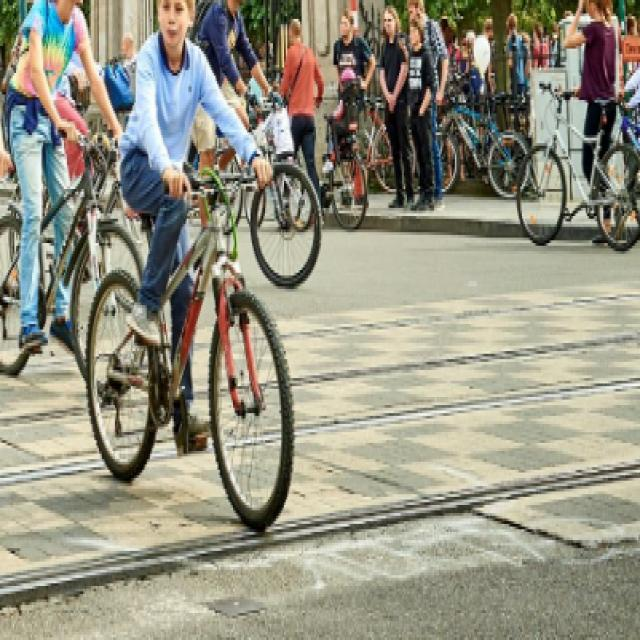bicycle: (78, 171, 304, 542), (515, 84, 640, 262), (410, 74, 533, 204), (0, 195, 5, 564)
